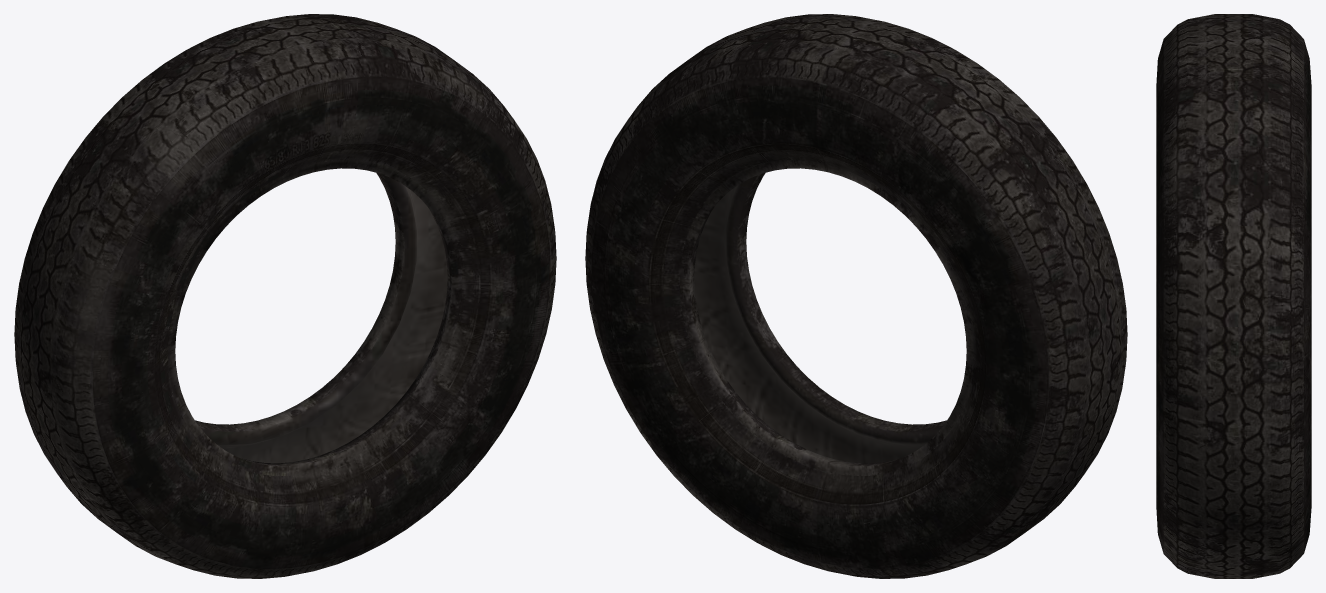
Rendered from tyre.glb.
The picture shows the model from 3 angles, left to right: view 1: azimuth 30°, elevation 25°; view 2: azimuth 150°, elevation 25°; view 3: azimuth 270°, elevation 25°; orthographic projection. The views are drawn at different scales.
Parts seen in each view (by area): view 1: old_tyre; view 2: old_tyre; view 3: old_tyre.
Boxes of the visible parts, box(x1,y1,x2,y2) form: old_tyre: box(14, 14, 556, 578); old_tyre: box(585, 14, 1127, 578); old_tyre: box(1156, 14, 1311, 578).
Size of the model in its own units: 0.6 by 0.6 by 0.165.
1 material, 1 textured.
